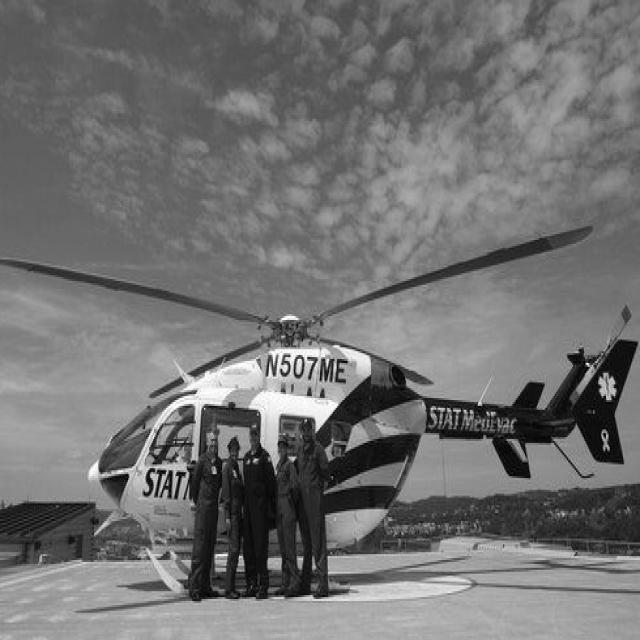helicopter: (73, 183, 640, 546)
